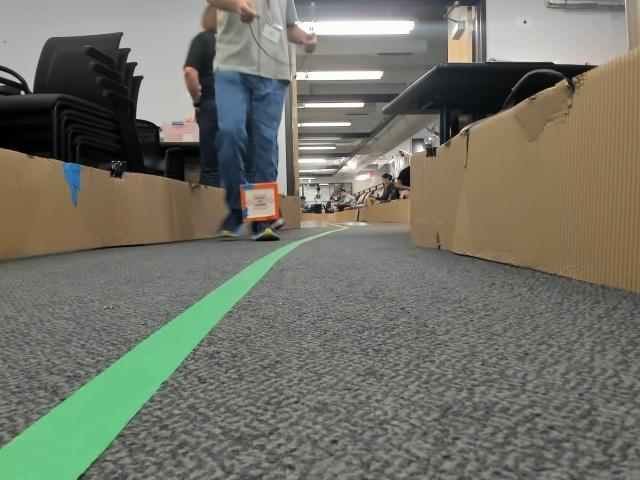Do Not Go Around: (246, 192, 273, 210)
